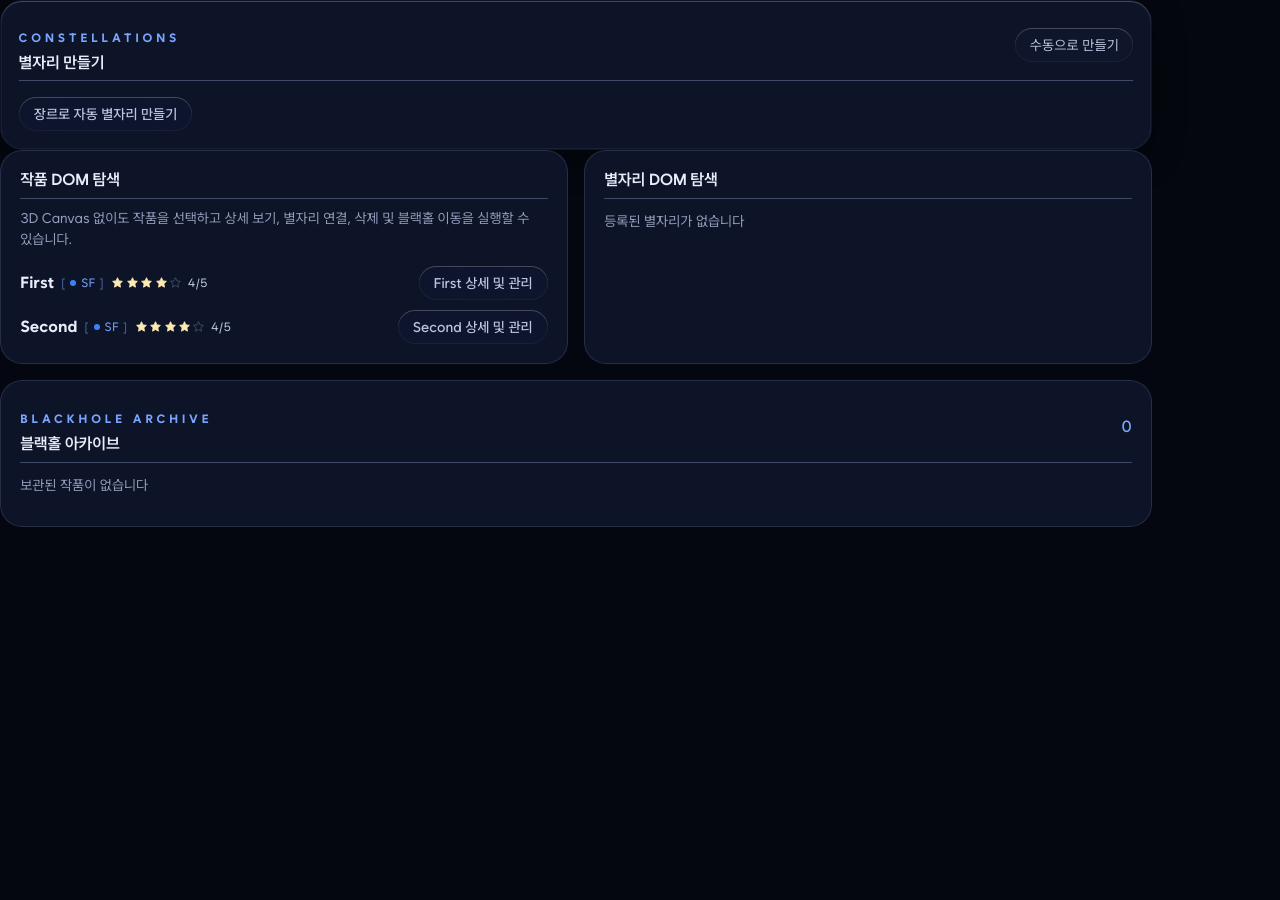
Scenario: complete accessible interaction paths › R7.9 R10.8 provides a keyboard-only DOM path for ordered constellation selection
This screenshot has width=1280, height=900.
Click the button "수동으로 만들기" at (1074, 45), box left=1015, top=28, right=1133, bottom=62
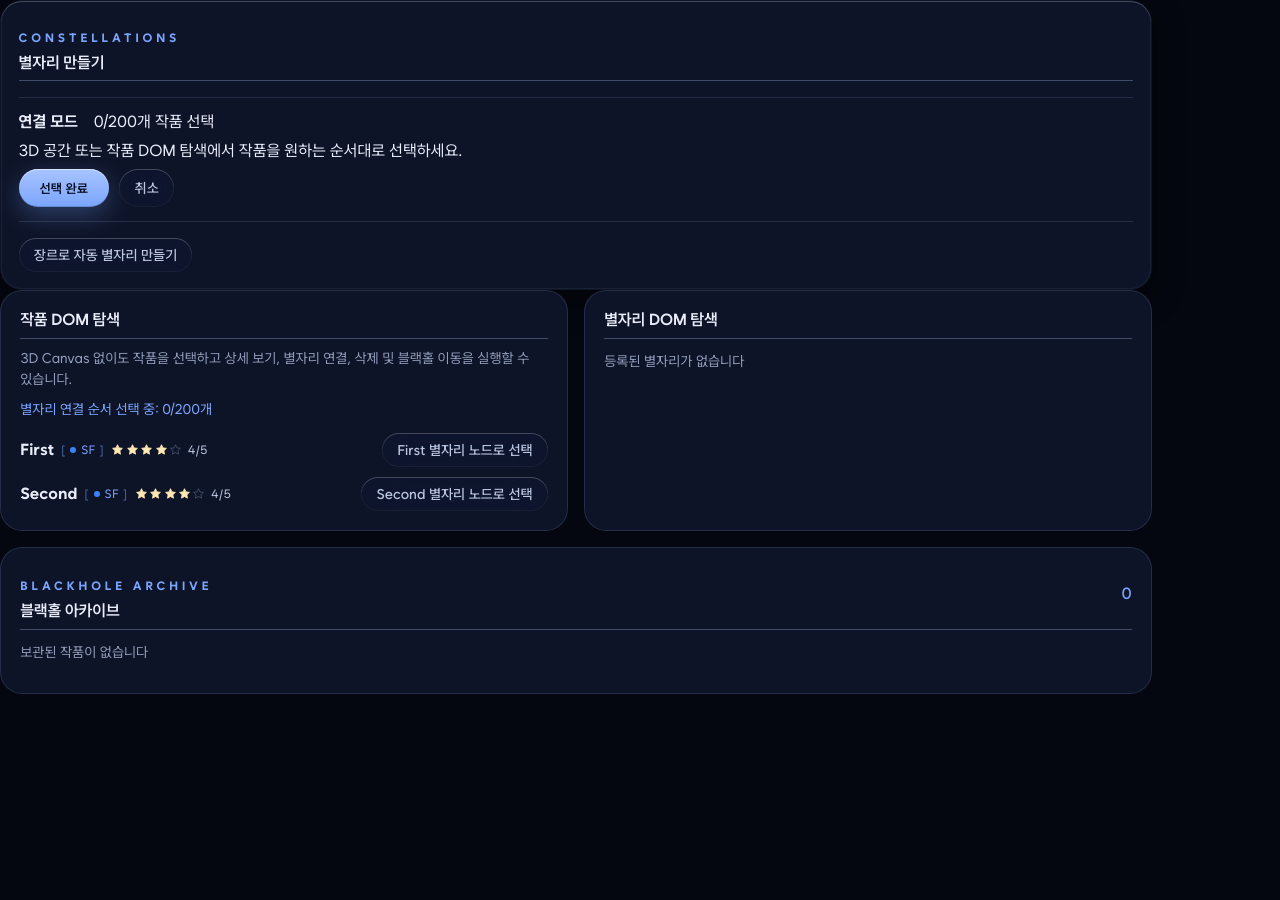
Click the button "First 별자리 노드로 선택" at (465, 450), box left=382, top=433, right=548, bottom=467
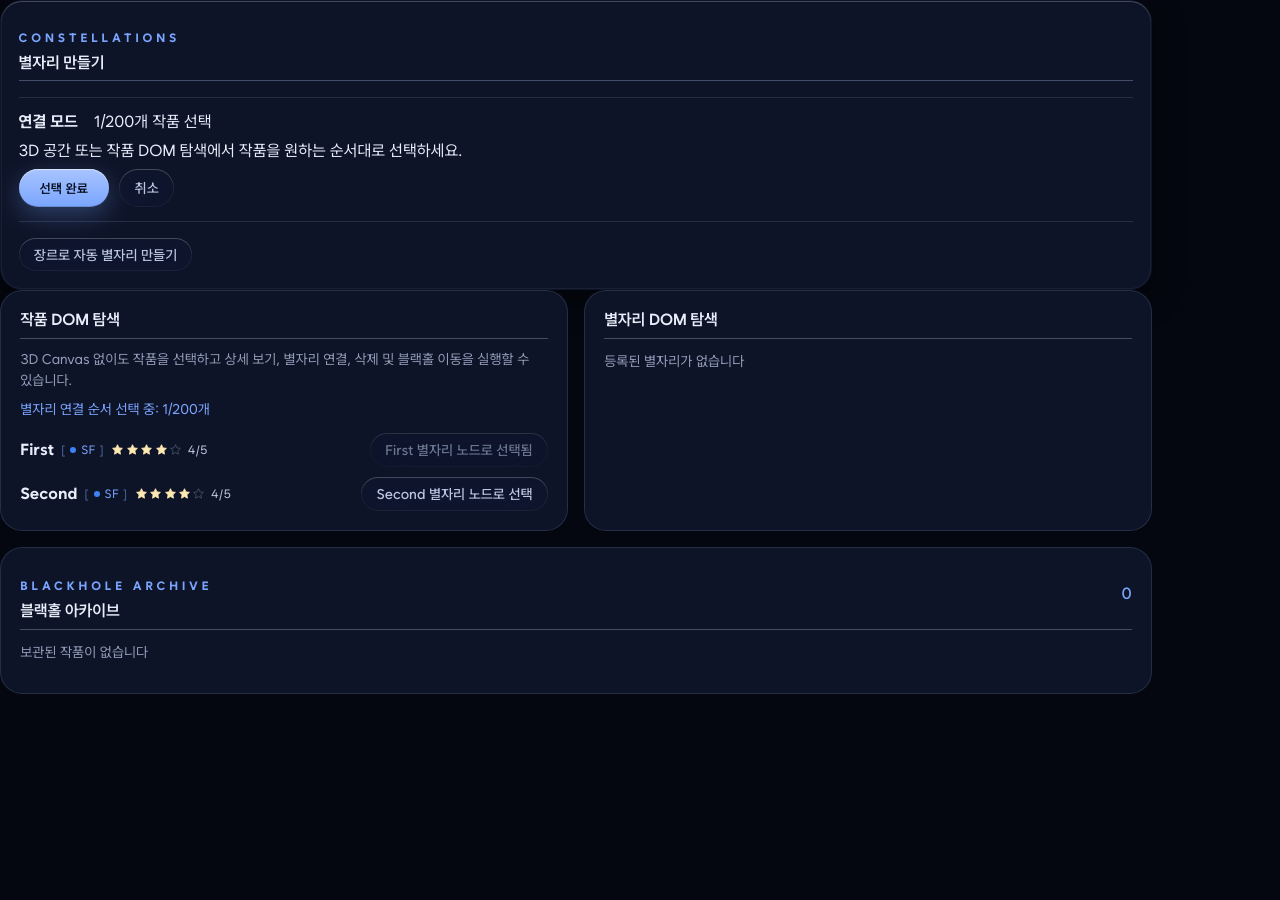
Now the button "First 별자리 노드로 선택됨" is disabled, box left=370, top=433, right=548, bottom=467
Click the button "Second 별자리 노드로 선택" at (455, 494), box left=361, top=477, right=548, bottom=510
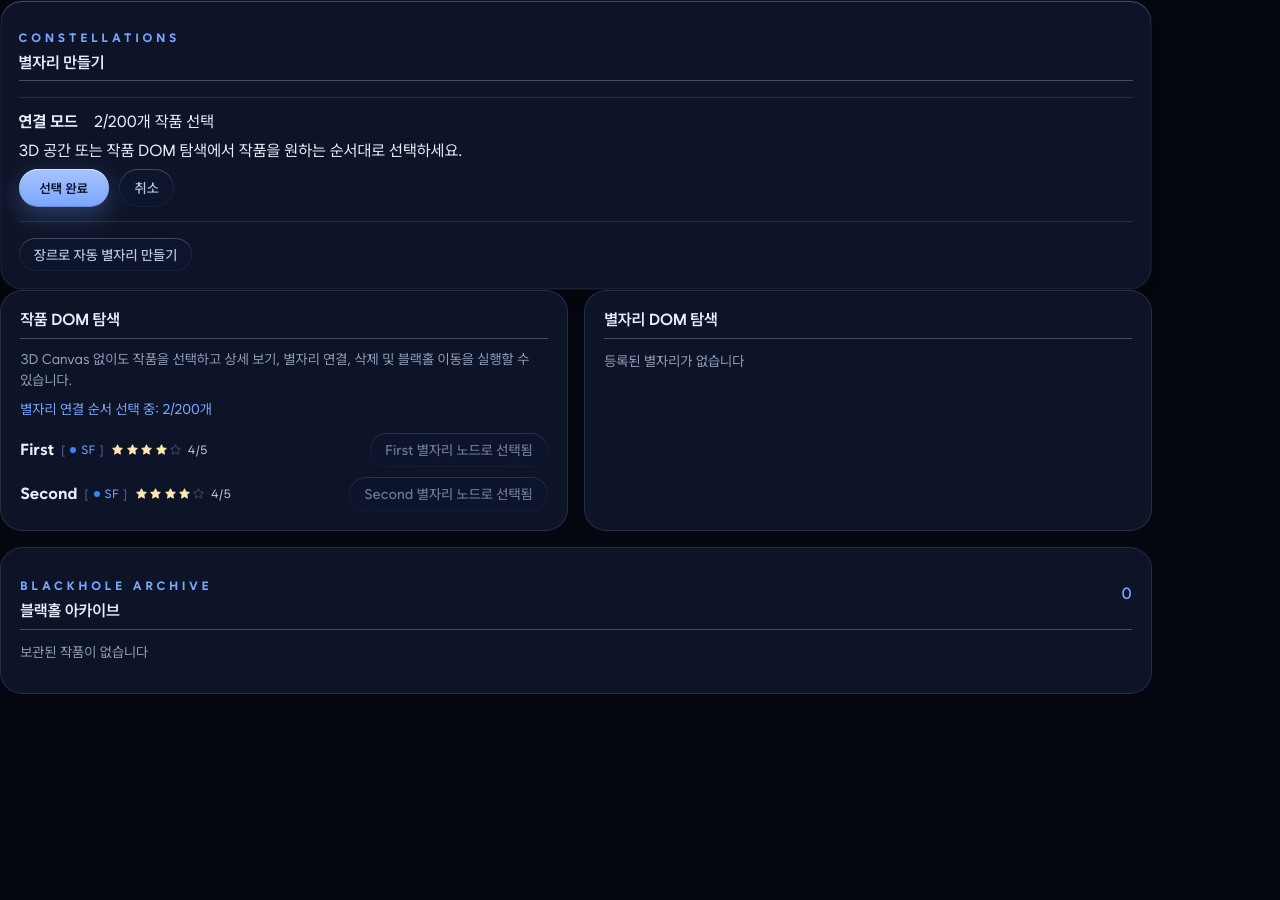
Click the button "선택 완료" at (64, 188), box left=19, top=169, right=109, bottom=207
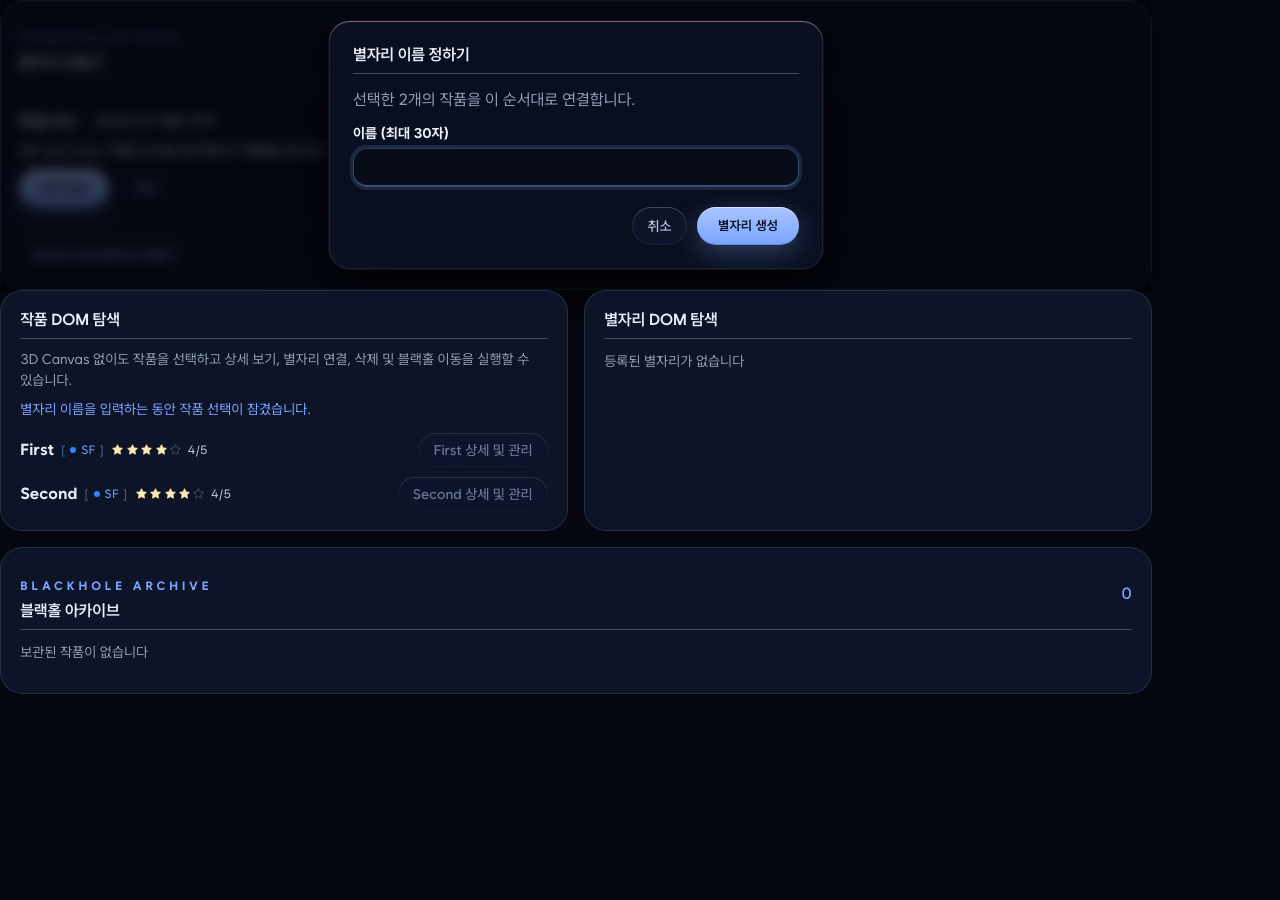
Now the dialog "별자리 이름 정하기" is shown, box left=328, top=20, right=824, bottom=270
